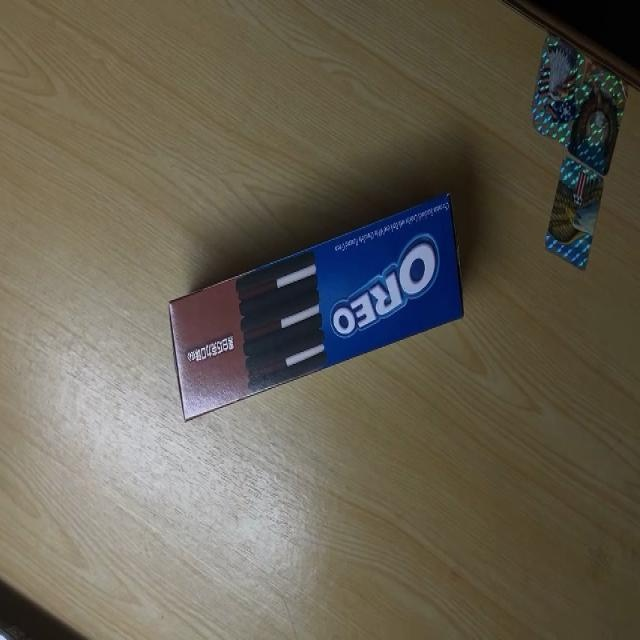Oreo: (167, 189, 464, 422)
